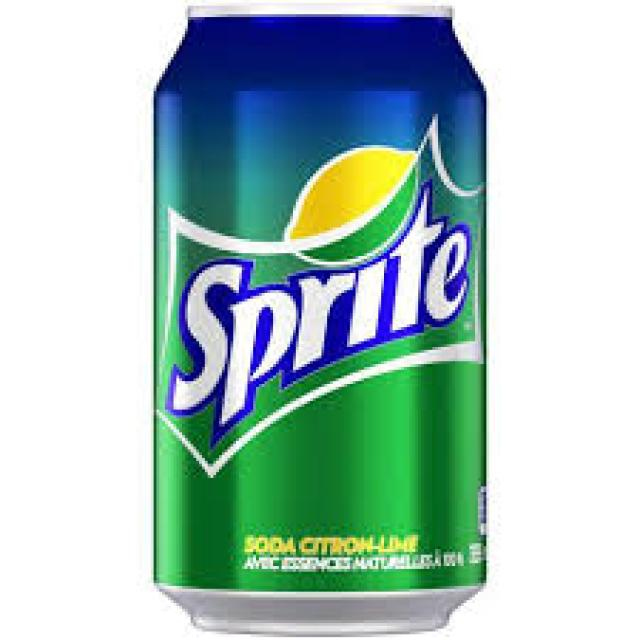aluminum_can: (148, 0, 499, 640)
